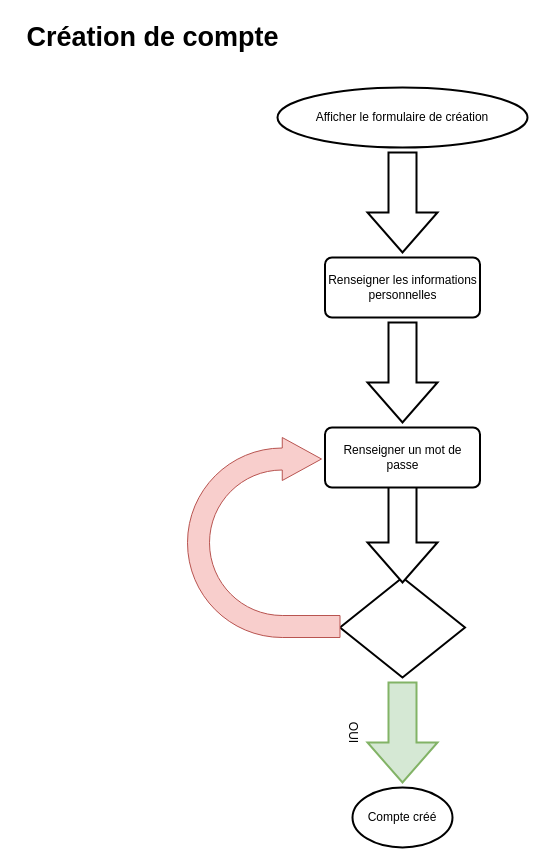
The diagram is 545 pixels wide and 865 high, and some of its shapes have lost their labels. Here are the shapes that lost their labels. From the top down, the centre of each, then its label:
(263,537): NON
(402,627): Valider le mot de passe
